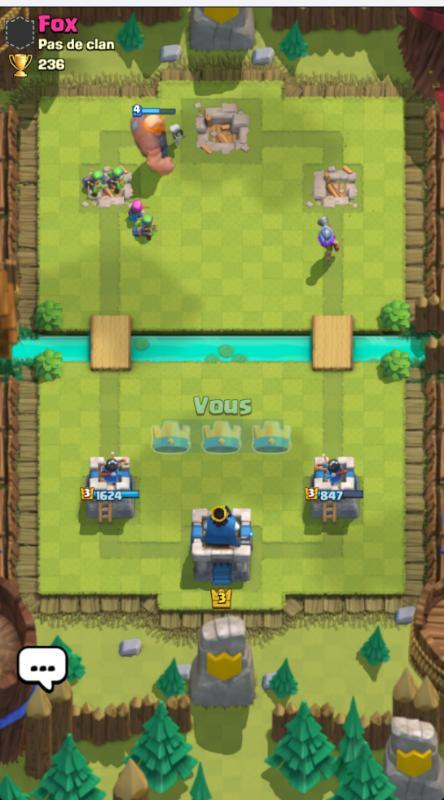player_archers: (123, 197, 146, 221)
player_giant: (130, 103, 174, 172)
player_musketeer: (309, 211, 348, 257)
player_skeletons: (168, 121, 189, 143)
player_spear_goblins: (103, 164, 138, 192), (132, 212, 164, 242), (82, 166, 104, 199)
